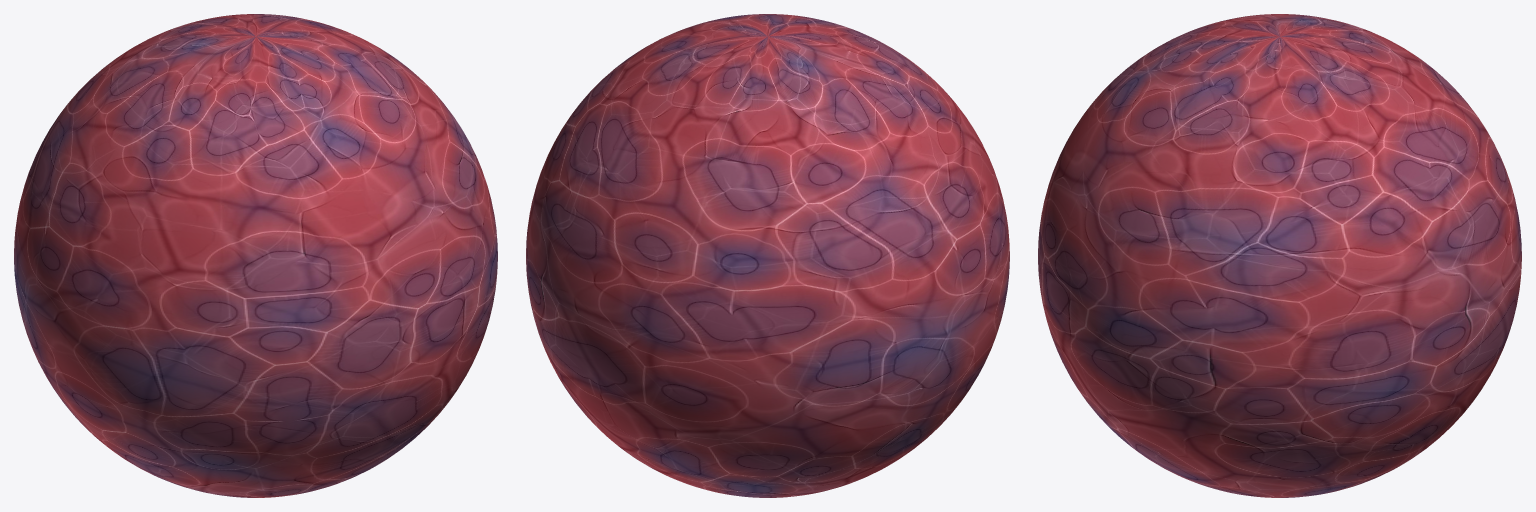
Rendered from stylized_organic_red.glb.
3 renders of one model, left to right at view 1: azimuth 30°, elevation 25°; view 2: azimuth 150°, elevation 25°; view 3: azimuth 270°, elevation 25°, orthographic.
Visible parts, largest first — view 1: Sphere001; view 2: Sphere001; view 3: Sphere001.
Boxes of the visible parts, <box> form: Sphere001: <box>14,14,497,497</box>; Sphere001: <box>526,14,1009,497</box>; Sphere001: <box>1038,14,1521,497</box>.
Bounding box in the file's own units: 95.93 × 95.95 × 95.92.
1 material, 1 textured.
